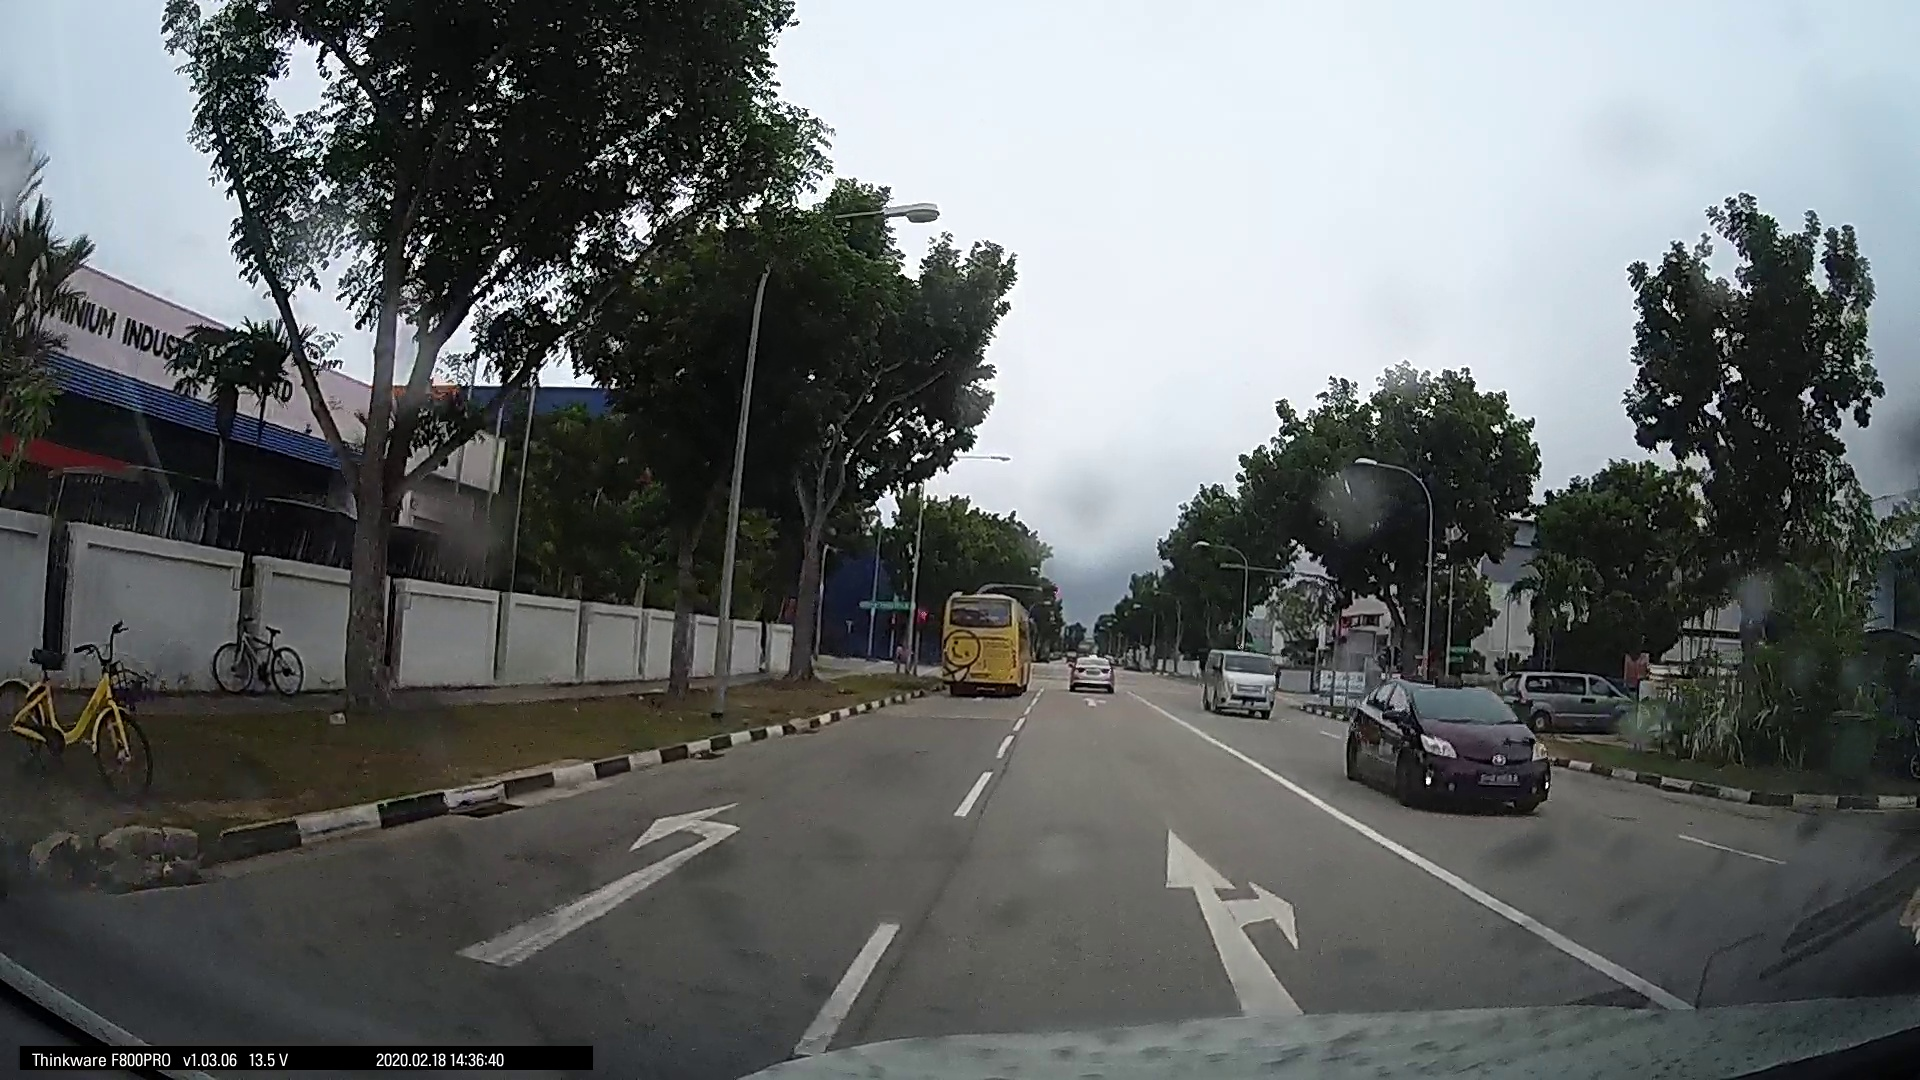Heavy Vehicle: (935, 588, 1034, 699)
Light Vehicle: (1336, 670, 1553, 818), (1505, 662, 1629, 738), (1192, 644, 1279, 719), (1062, 645, 1116, 694)
